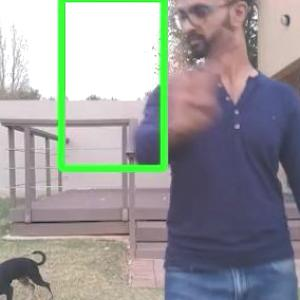takeoff-hand: (159, 43, 227, 134)
